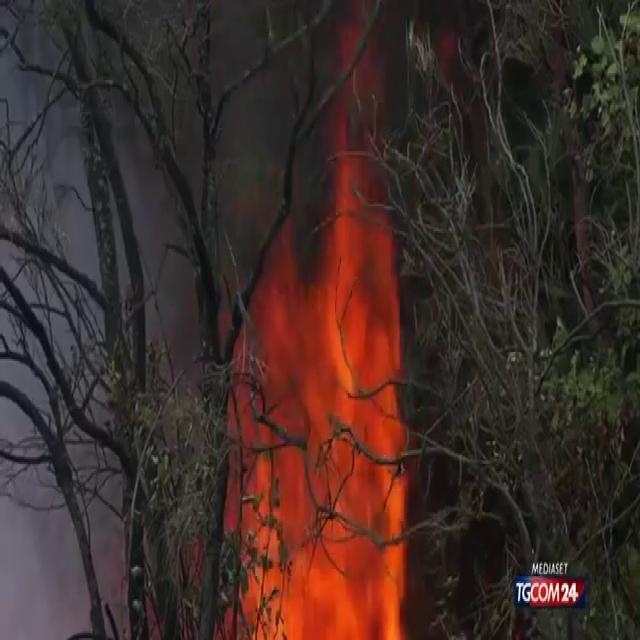Fire: (222, 129, 421, 639)
